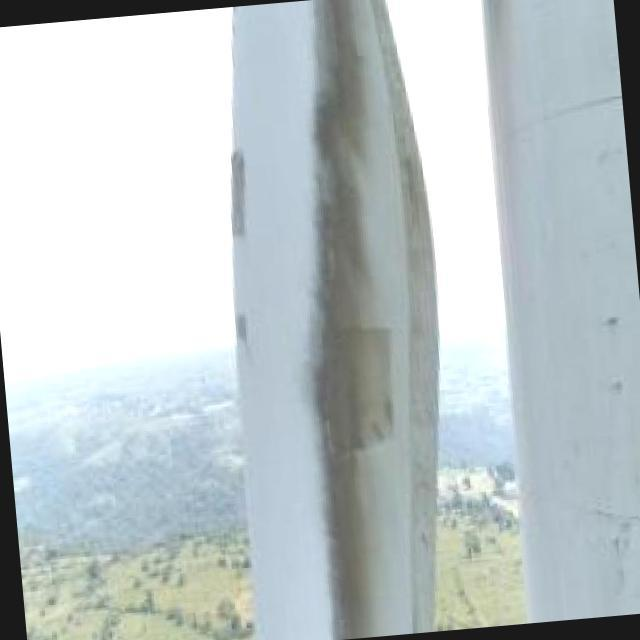Dirt: (305, 0, 444, 640), (225, 133, 252, 370)
